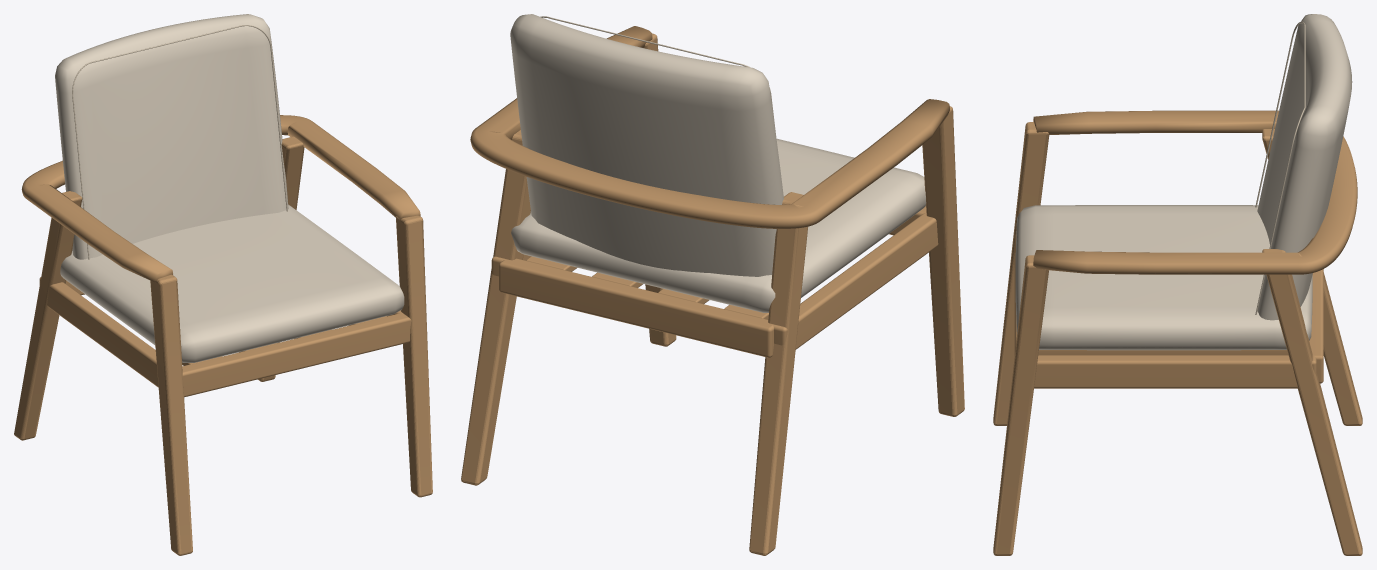
Rendered from chair-s05118-v1.glb.
The picture shows the model from 3 angles, left to right: view 1: azimuth 30°, elevation 25°; view 2: azimuth 150°, elevation 25°; view 3: azimuth 270°, elevation 25°; orthographic projection. The views are drawn at different scales.
Parts seen in each view (by area): view 1: back-cushion, seat-cushion, wraparound-arm, seat-front-rail, front-leg--1, front-leg-1, rear-leg--1, seat-side--1, rear-leg-1, back-piping; view 2: back-cushion, seat-cushion, wraparound-arm, seat-back-rail, rear-leg--1, front-leg--1, rear-leg-1, seat-side--1, front-leg-1; view 3: seat-cushion, back-cushion, wraparound-arm, seat-side-1, rear-leg-1, front-leg-1, front-leg--1, rear-leg--1, seat-slat-3, seat-back-rail, back-piping.
Boxes of the visible parts, x1,y1,x2,y2 form: back-cushion: (55, 14, 288, 259); seat-cushion: (60, 204, 404, 362); wraparound-arm: (21, 115, 420, 282); seat-front-rail: (182, 313, 411, 397); front-leg--1: (150, 274, 192, 555); front-leg-1: (396, 215, 432, 497); rear-leg--1: (14, 191, 82, 440); seat-side--1: (39, 277, 158, 387); rear-leg-1: (258, 136, 304, 381); back-piping: (72, 25, 287, 259); back-cushion: (510, 14, 783, 276); seat-cushion: (511, 138, 926, 312); wraparound-arm: (470, 26, 949, 228); seat-back-rail: (499, 258, 773, 357); rear-leg--1: (749, 192, 807, 555); front-leg--1: (922, 106, 964, 416); rear-leg-1: (461, 130, 530, 485); seat-side--1: (773, 213, 938, 349); front-leg-1: (644, 33, 676, 346); seat-cushion: (1015, 205, 1312, 350); back-cushion: (1257, 14, 1352, 320); wraparound-arm: (1033, 110, 1357, 274); seat-side-1: (1034, 355, 1316, 388); rear-leg-1: (1262, 249, 1362, 555); front-leg-1: (993, 255, 1048, 555); front-leg--1: (993, 122, 1049, 425); rear-leg--1: (1262, 129, 1362, 425); seat-slat-3: (1038, 350, 1288, 355); seat-back-rail: (1309, 269, 1323, 383); back-piping: (1255, 21, 1305, 314).
Size of the model in its own units: 0.66 by 0.84 by 0.66.
